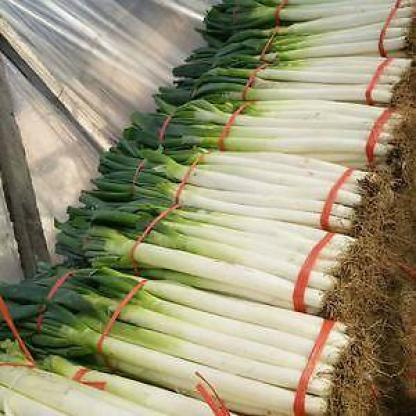green onion: (18, 256, 380, 414), (67, 194, 402, 319), (101, 142, 402, 246), (128, 94, 414, 183), (198, 0, 415, 74), (172, 52, 415, 116)
